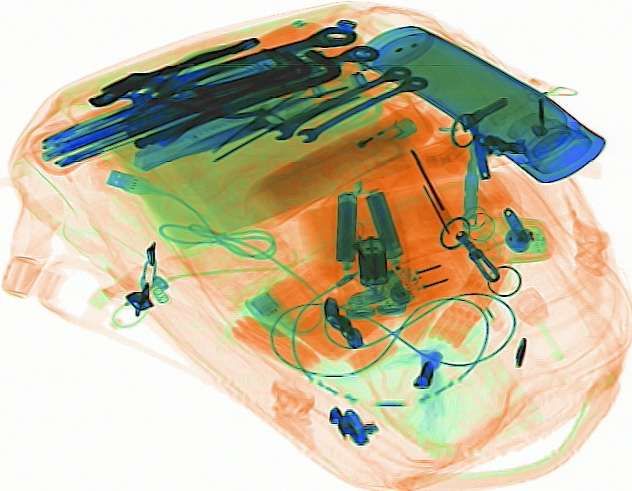knife: (131, 90, 317, 173)
lighter: (315, 113, 418, 172)
